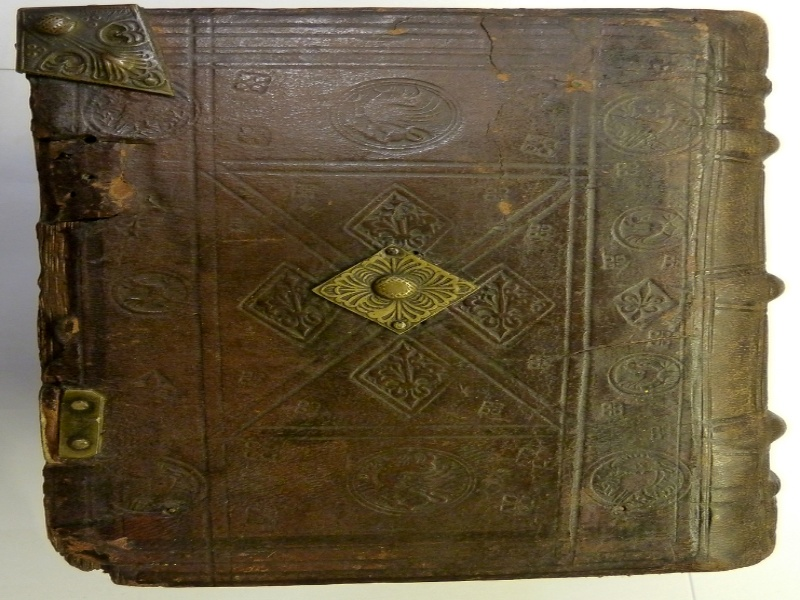book: (10, 1, 794, 594)
